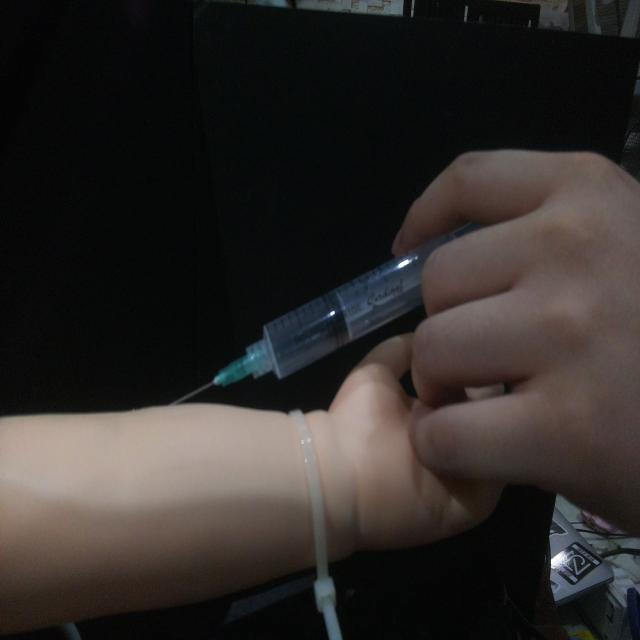17deg: (166, 216, 487, 408)
